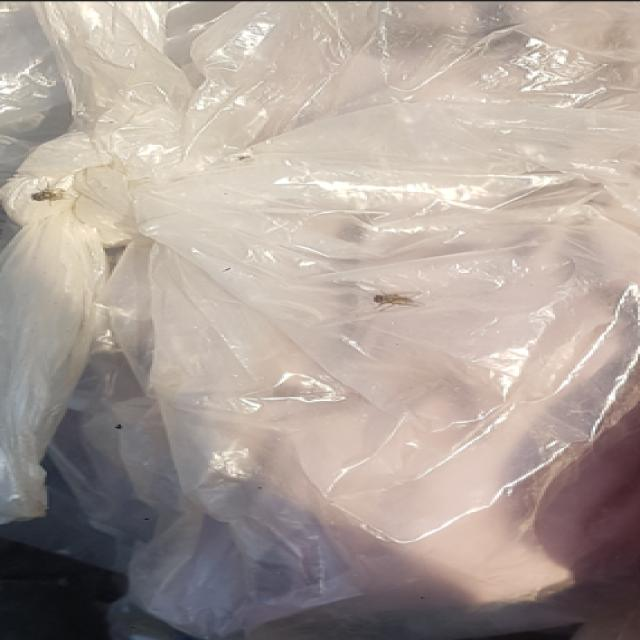general: (2, 0, 638, 639)
